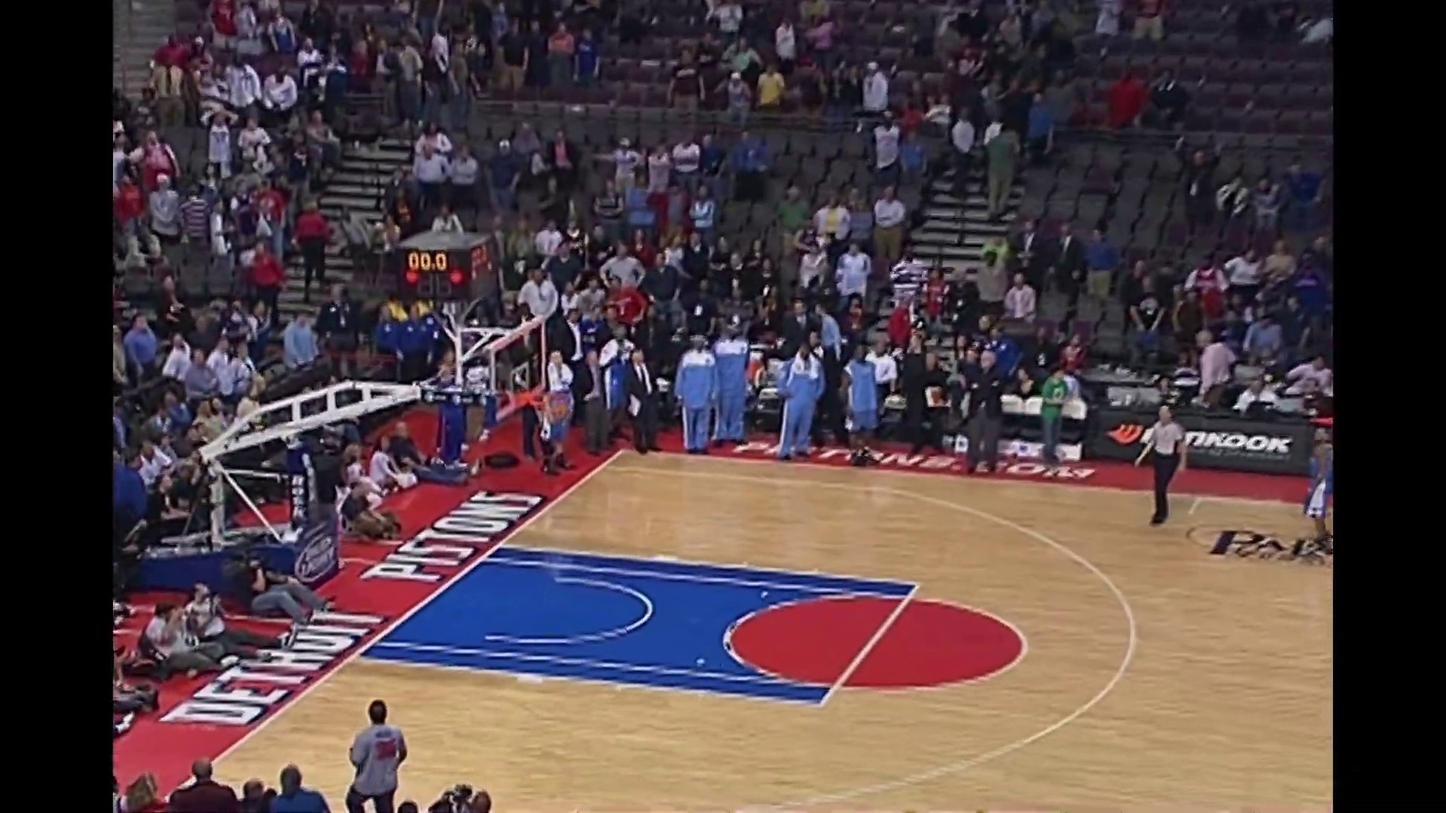basket_hoop: (441, 301, 594, 440)
